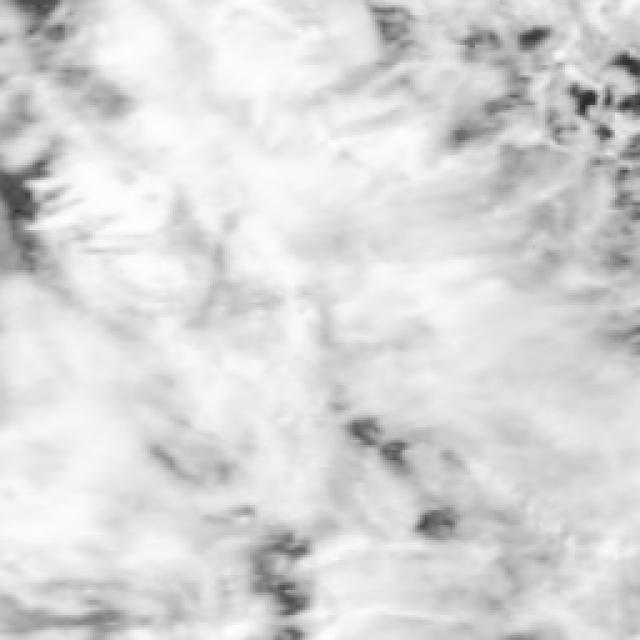CB: (168, 200, 378, 398), (65, 3, 262, 210), (476, 400, 640, 640), (2, 460, 202, 640), (1, 281, 182, 478), (382, 215, 562, 401), (259, 0, 406, 204), (188, 392, 351, 527)
